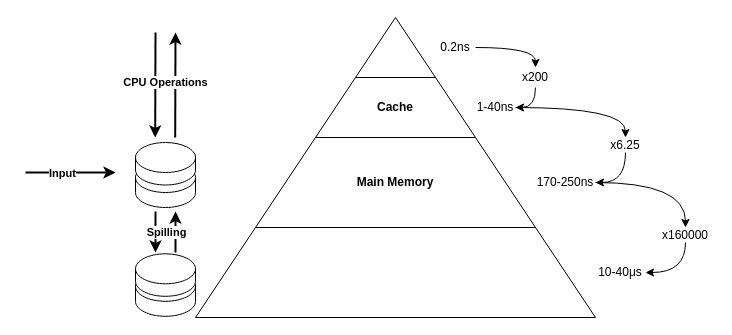
The diagram is 732 pixels wide and 335 high, and some of its shapes have lost their labels. Here are the shapes that lost their labels. From the top down, the centre of each, then its label:
pixel 395 47: Register
pixel 395 272: SSD Background Memory
